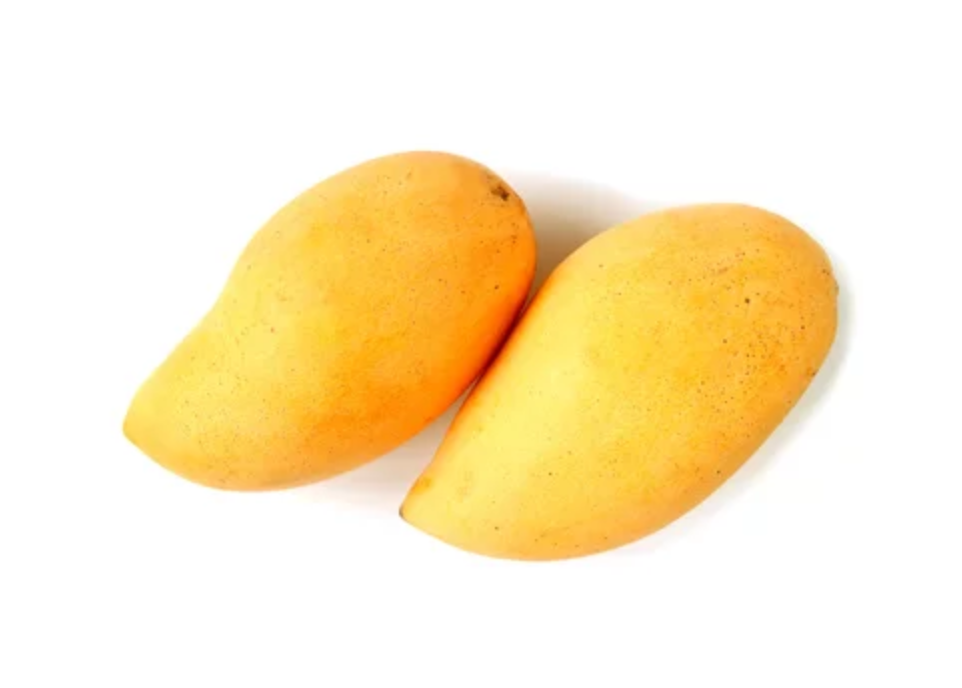mango: (390, 202, 840, 560), (122, 146, 539, 494)
